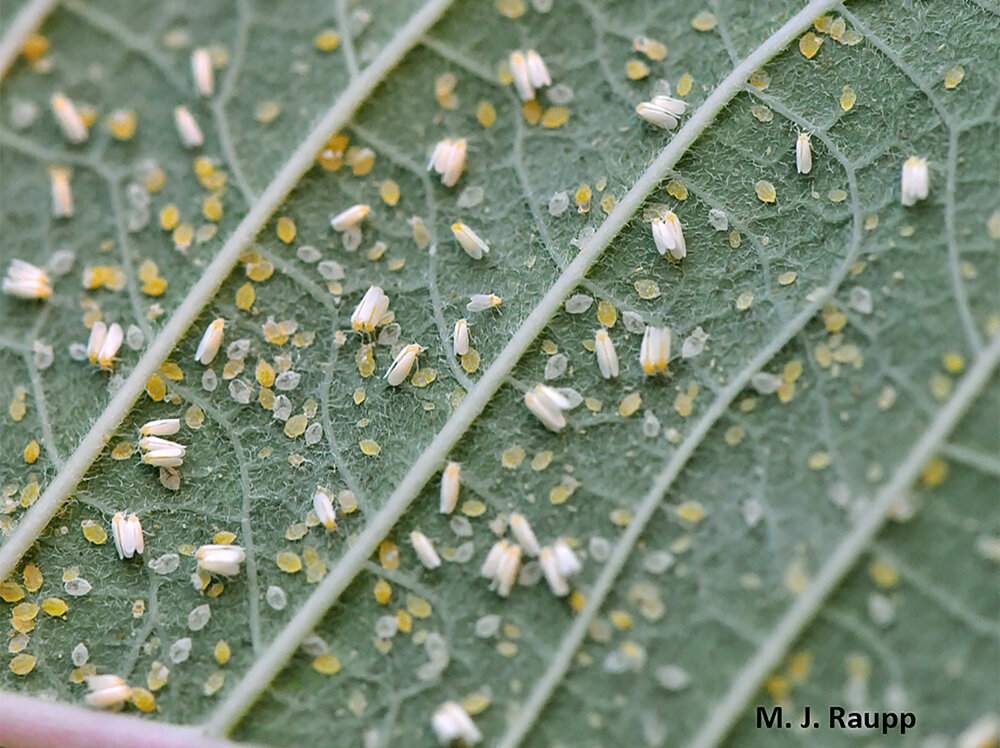Tobacco Whitefly: (181, 308, 238, 386), (344, 291, 407, 353), (382, 341, 444, 403), (420, 461, 481, 522), (437, 138, 484, 208), (583, 325, 631, 390), (659, 195, 694, 282), (403, 517, 445, 580), (446, 214, 489, 263), (446, 313, 486, 365), (626, 74, 662, 131), (531, 382, 566, 435)
